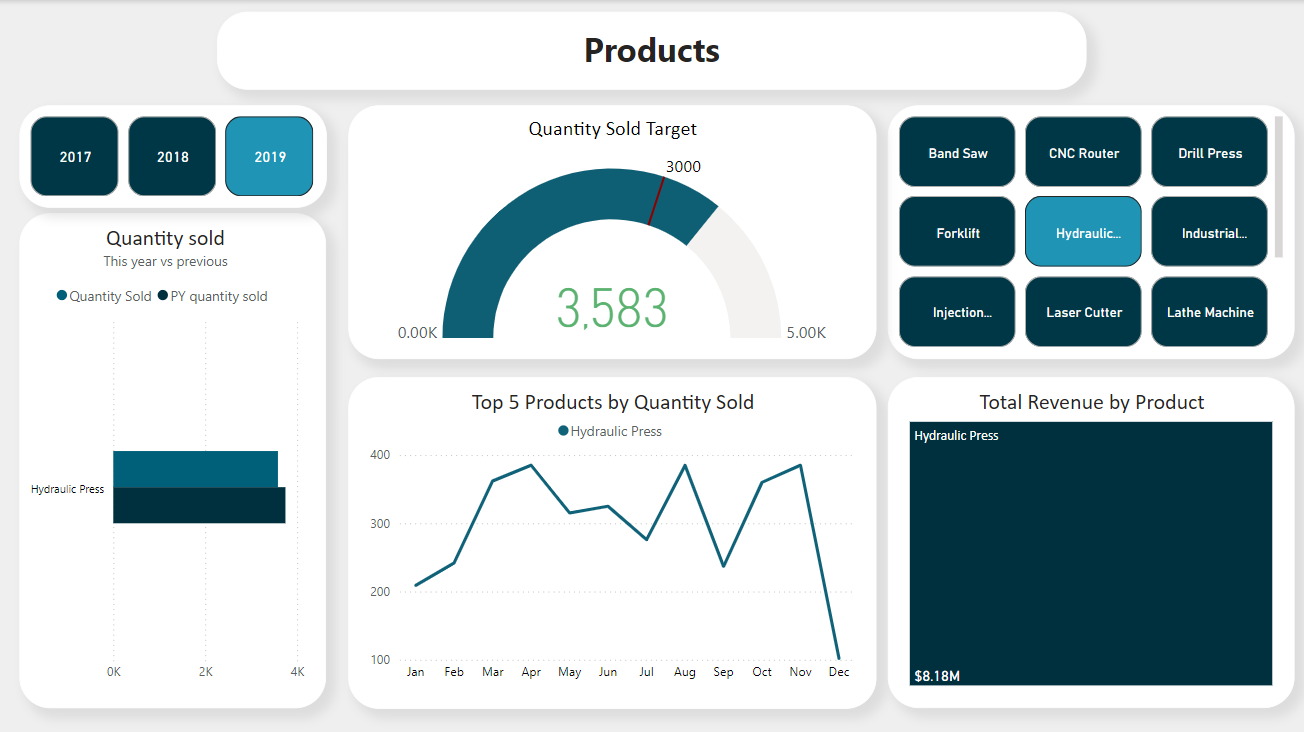

The dashboard page shown, as its layout file describes it:
{"tool":"powerbi","page":{"name":"Products","canvas":[1280,720],"ordinal":1},"visuals":[{"type":"textbox","box":[216.2,11.2,848.7,76.2],"z":0},{"type":"clusteredBarChart","title":"Quantity sold","fields":{"Category":["Products_Data.Product Name"],"Y":["DAX measures.Quantity Sold","DAX measures.PY quantity sold"]},"box":[22.8,208,299.4,483.3],"z":1000},{"type":"lineChart","title":"Quantity Sold","fields":{"Category":["Date_Table.Month Short"],"Y":["DAX measures.Quantity Sold"],"Series":["Products_Data.Product Name"]},"box":[343.3,368.3,570,323.3],"z":2000},{"type":"advancedSlicerVisual","fields":{"Values":["Products_Data.Product Name"]},"box":[926,102.8,341.2,588.6],"z":3000},{"type":"advancedSlicerVisual","title":"Year","fields":{"Values":["Date_Table.Year"]},"box":[23.3,103.3,300,100],"z":4000},{"type":"gauge","title":"Target","fields":{"TargetValue":["DAX measures.Target Quantity"],"Y":["DAX measures.Gauge Value"]},"box":[343.8,102.8,569.6,247.4],"z":5000}]}

Visuals, with their boxes in screenshot pixels (x1, y1, x2, y2), scaled from the page's 1280x720 canvas onto the 1304x732 screenshot:
textbox: {"left": 220, "top": 11, "right": 1085, "bottom": 89}
"Quantity sold" clusteredBarChart: {"left": 23, "top": 211, "right": 328, "bottom": 703}
"Quantity Sold" lineChart: {"left": 350, "top": 374, "right": 930, "bottom": 703}
advancedSlicerVisual - Products_Data.Product Name: {"left": 943, "top": 105, "right": 1291, "bottom": 703}
"Year" advancedSlicerVisual: {"left": 24, "top": 105, "right": 329, "bottom": 207}
"Target" gauge: {"left": 350, "top": 105, "right": 931, "bottom": 356}
